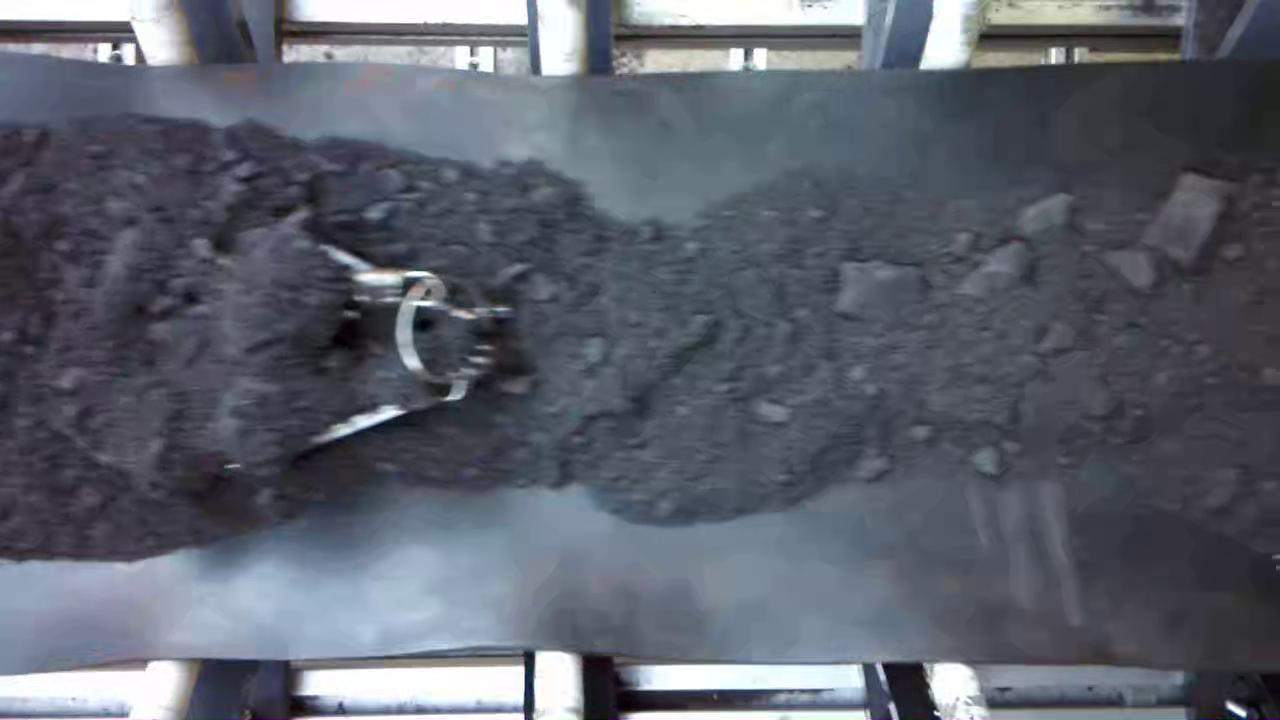conveyor: (0, 76, 1280, 660)
